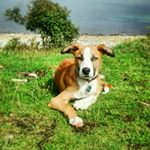puppy: (44, 40, 118, 134)
